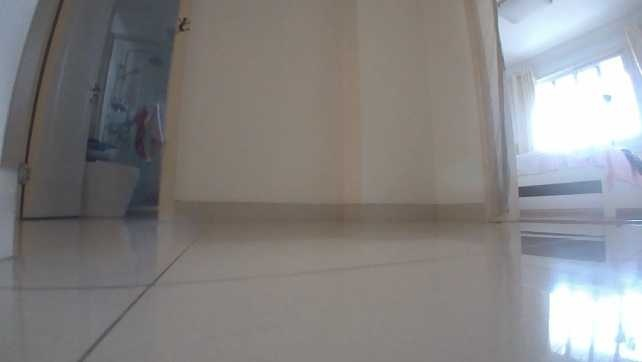bed1: (512, 144, 641, 221)
door_anno: (16, 2, 115, 220)
toilet: (78, 154, 140, 219)
